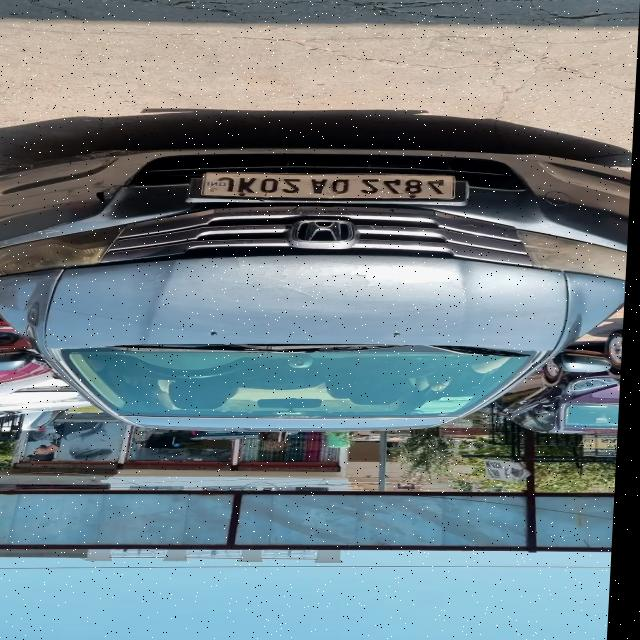plate: (188, 166, 479, 211)
